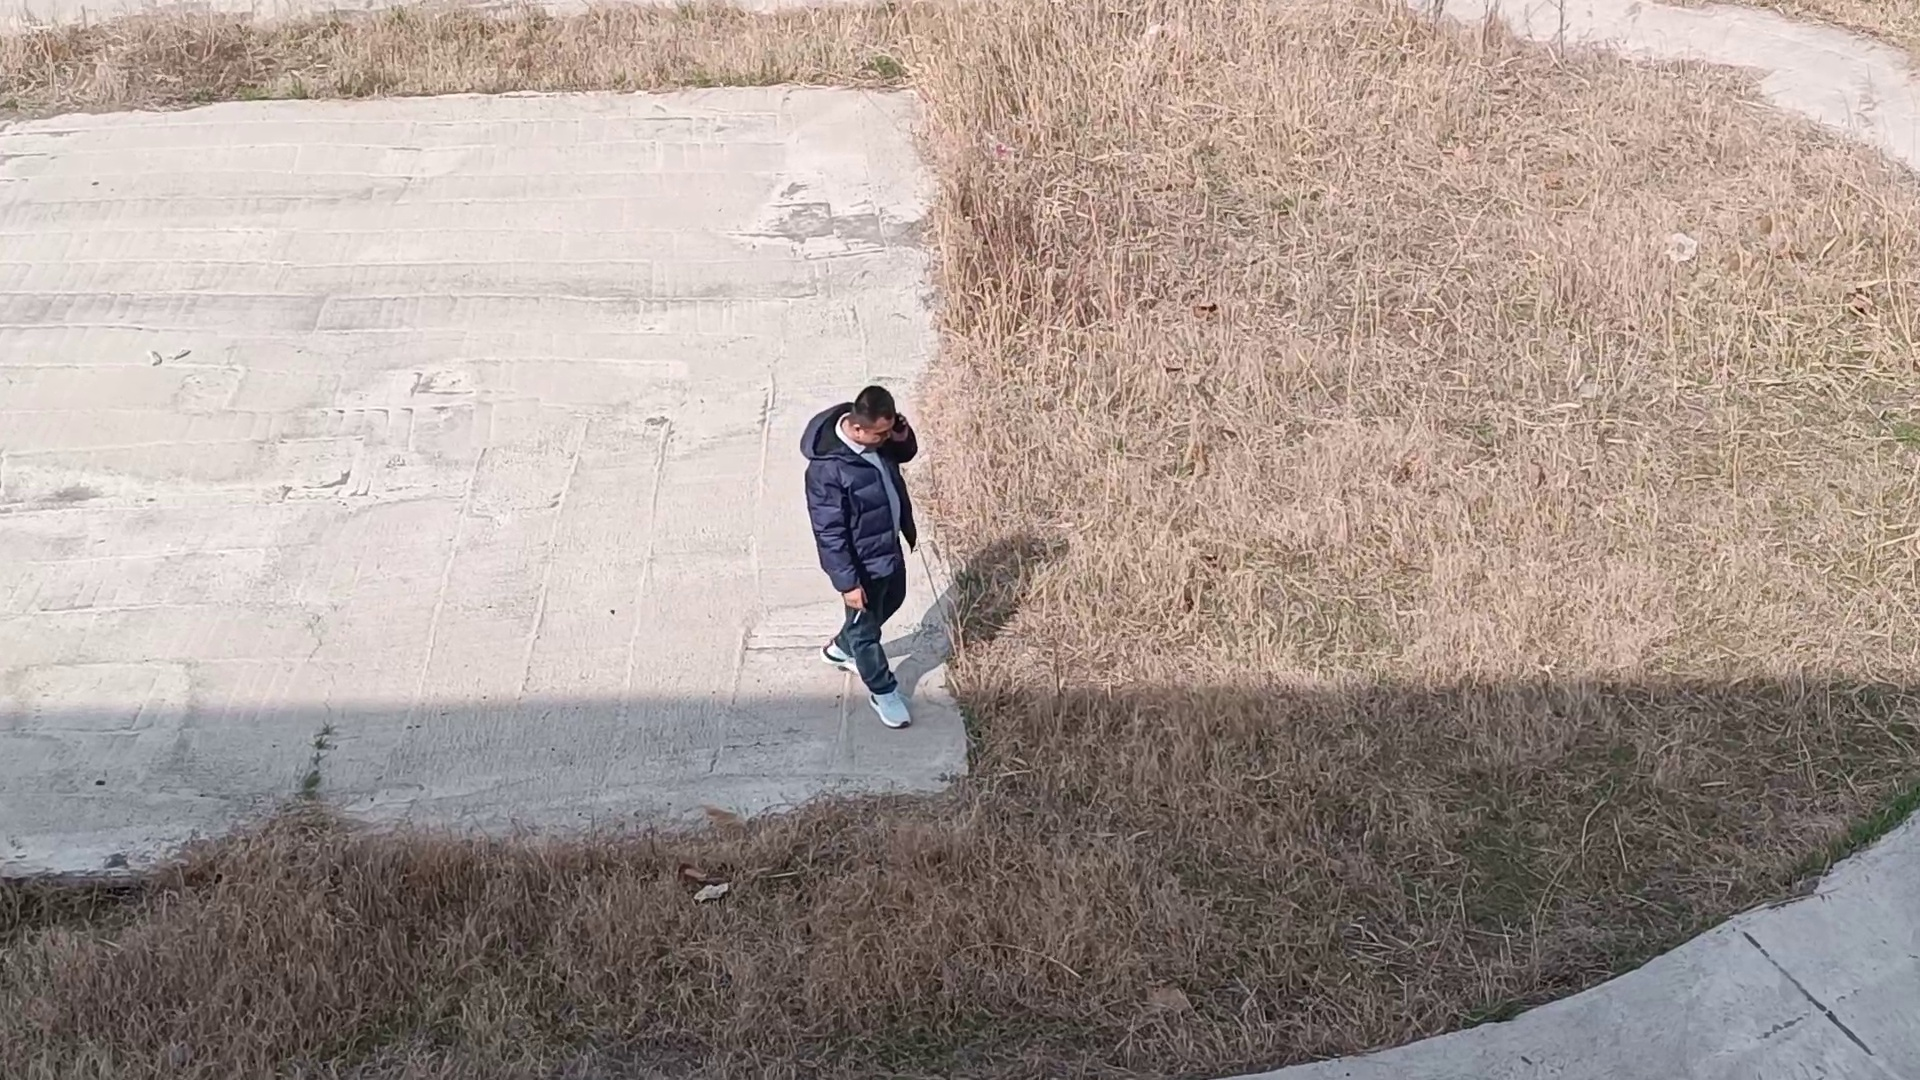phone: (837, 385, 916, 460)
